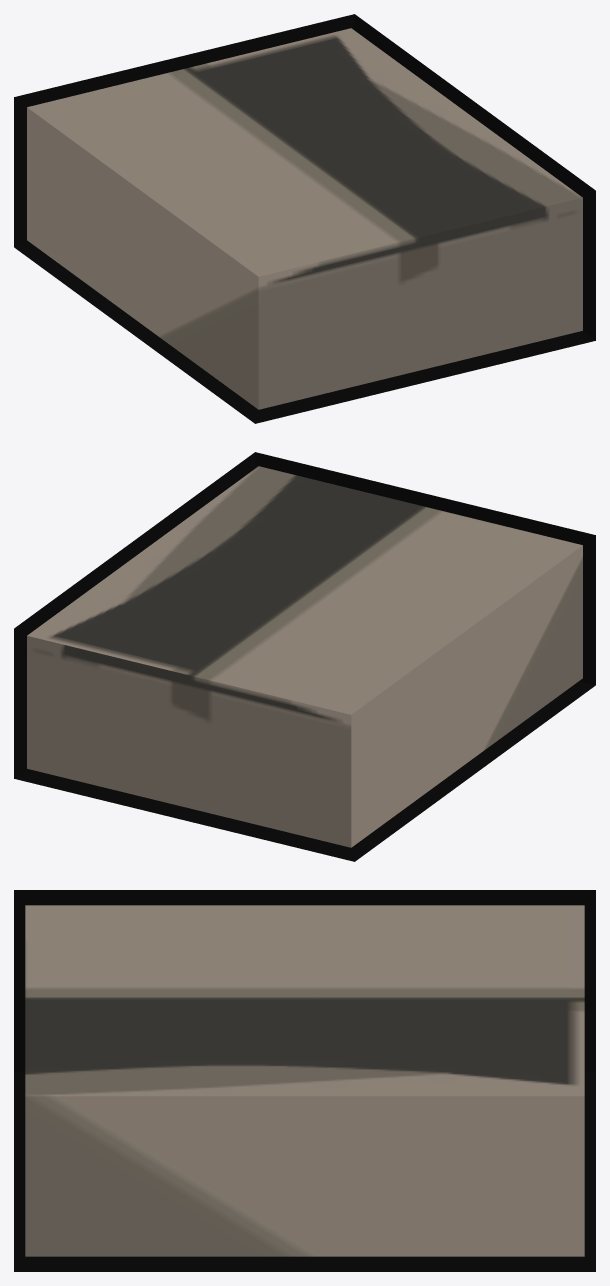
File: Building_AncientCardboardBox_Things_Building_Ancient_Shop_OldCardboardBox_OldCardboardBoxF.glb
3 renders of one model, top to bottom at view 1: azimuth 30°, elevation 25°; view 2: azimuth 150°, elevation 25°; view 3: azimuth 270°, elevation 25°, orthographic. The views are drawn at different scales.
Parts seen in each view (by area): view 1: Body, Outline; view 2: Body, Outline; view 3: Body, Outline.
Part boxes in pixels (left/top/right/bottom): Body: left=27, top=28, right=582, bottom=409; Outline: left=14, top=14, right=595, bottom=423; Body: left=27, top=466, right=582, bottom=847; Outline: left=14, top=452, right=595, bottom=861; Body: left=25, top=905, right=584, bottom=1256; Outline: left=14, top=890, right=595, bottom=1271.
Bounding box in the file's own units: 0.9357 × 0.394 × 1.15.
2 materials, 1 textured.
